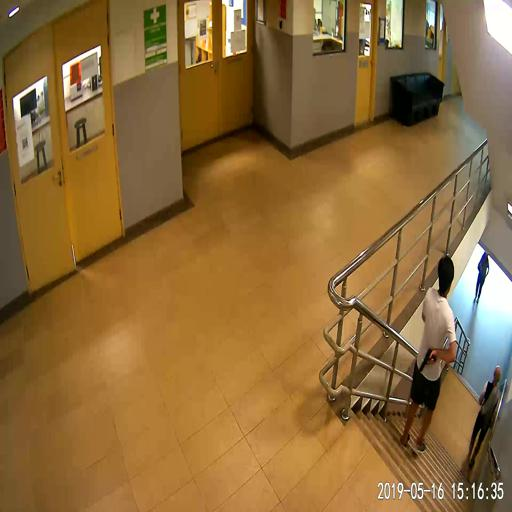pistol: (419, 347, 436, 373)
